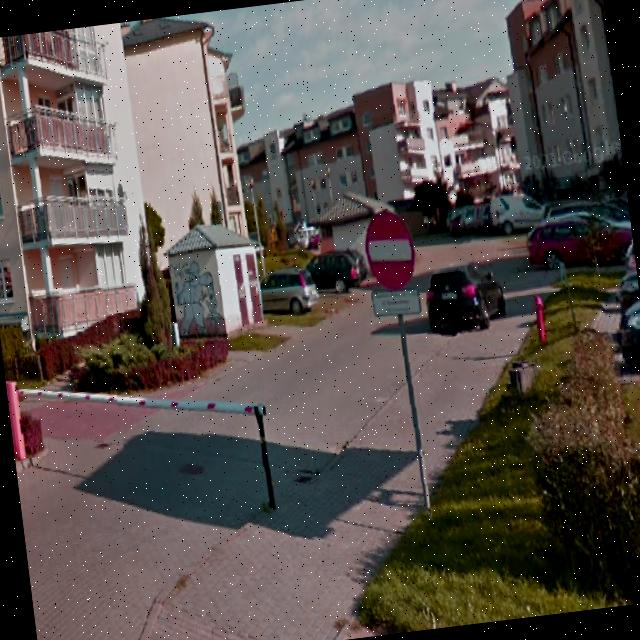Zakaz wjazdu: (361, 204, 419, 293)
